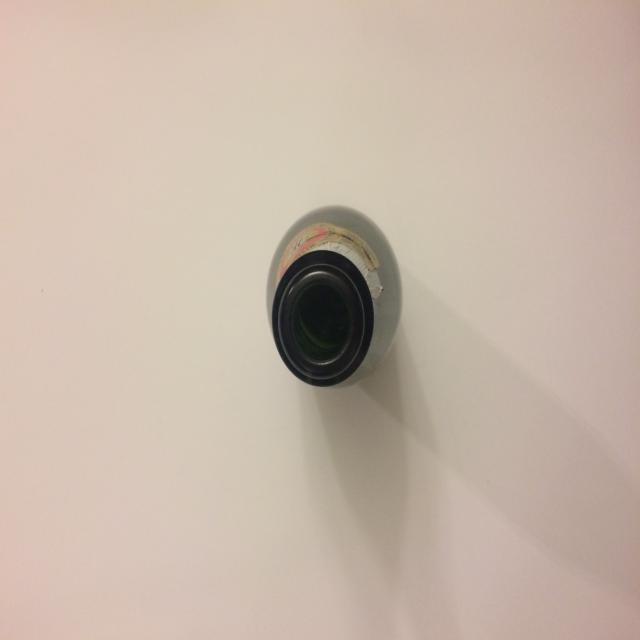glass: (267, 204, 403, 388)
